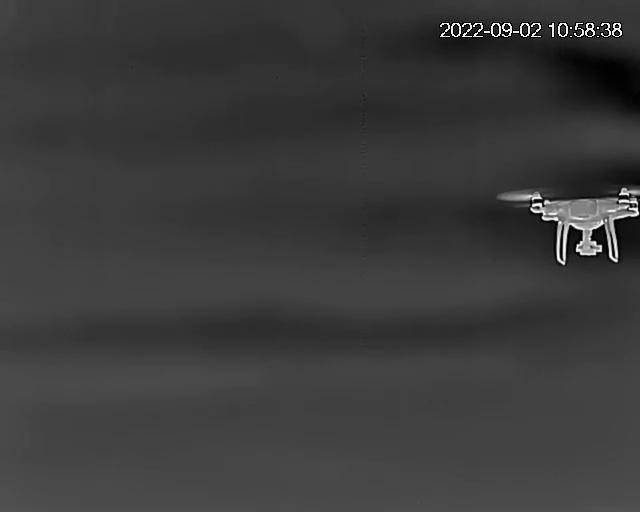DJI-Phantom: (501, 184, 640, 267)
